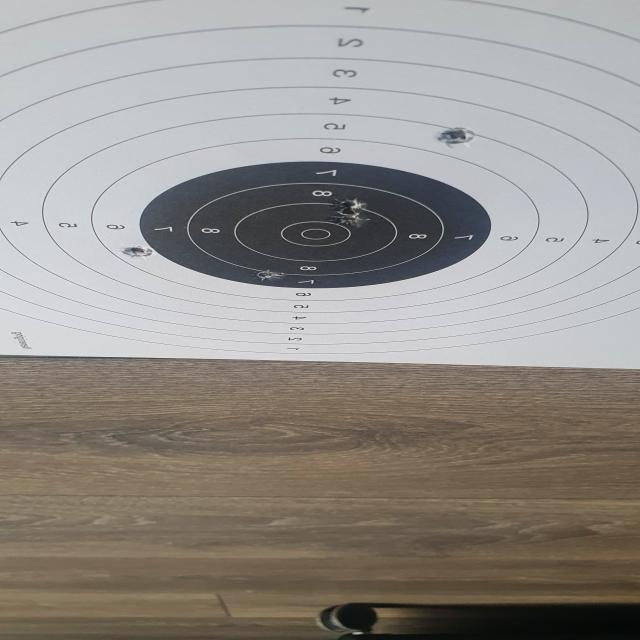5: (438, 128, 476, 146)
6: (116, 246, 154, 260)
8: (249, 269, 285, 282)
9: (330, 213, 368, 227), (333, 197, 366, 212)
Target: (1, 1, 640, 357)
black_contour: (139, 162, 492, 288)
